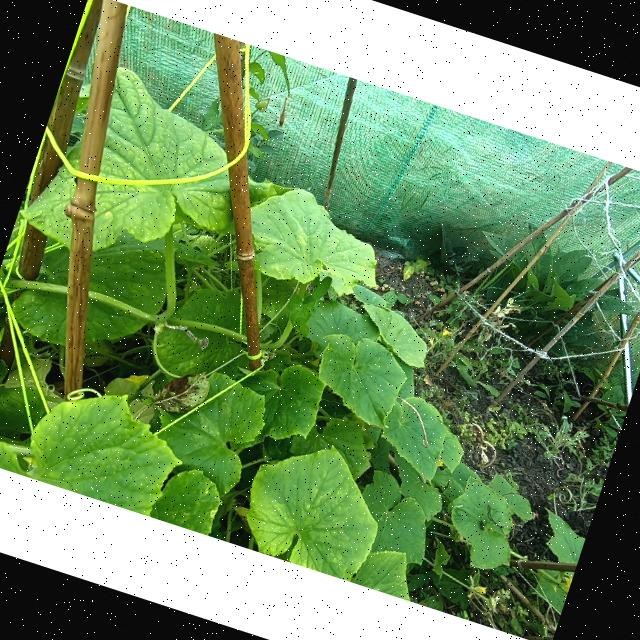Flowers: (440, 328, 450, 340)
